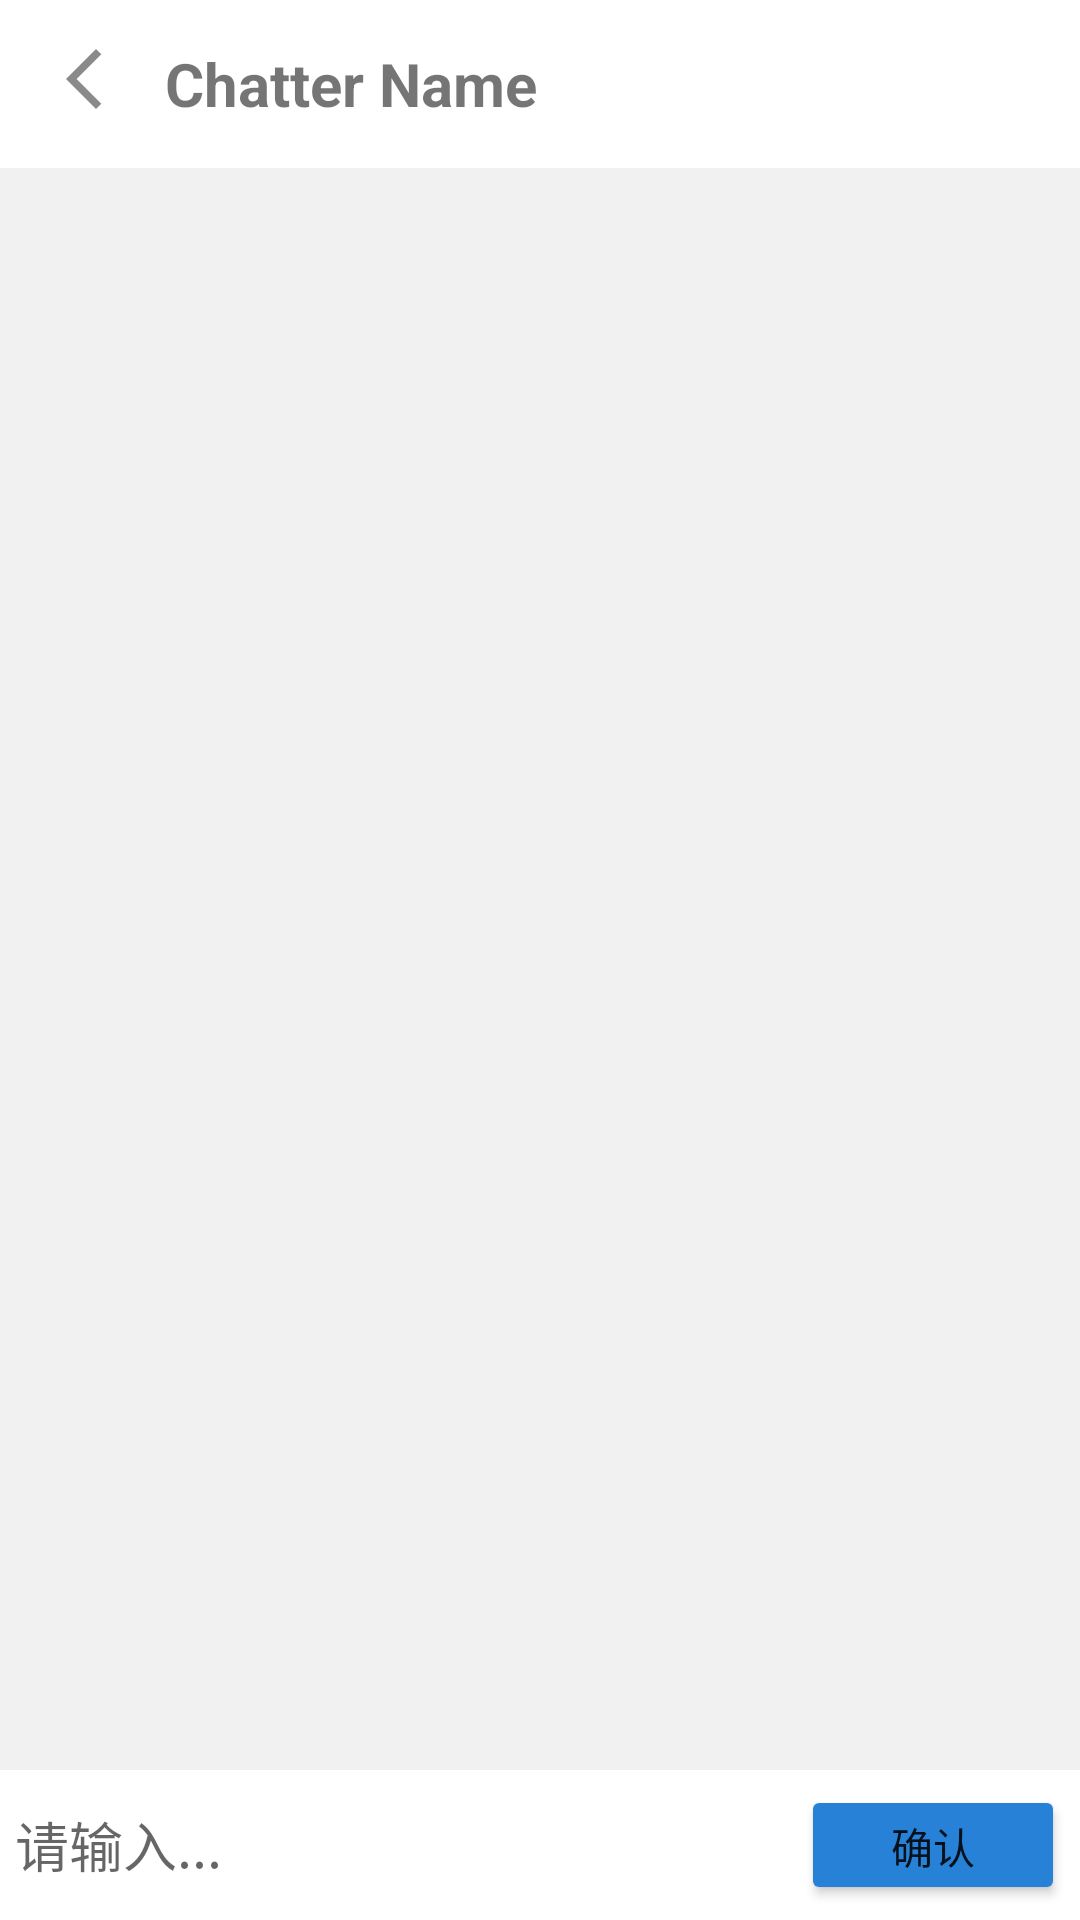

Icons on this 1080w x 1920h Android screen, each with its box as (x1, y1, x2, y2):
arrow back: (66, 49, 101, 109)
